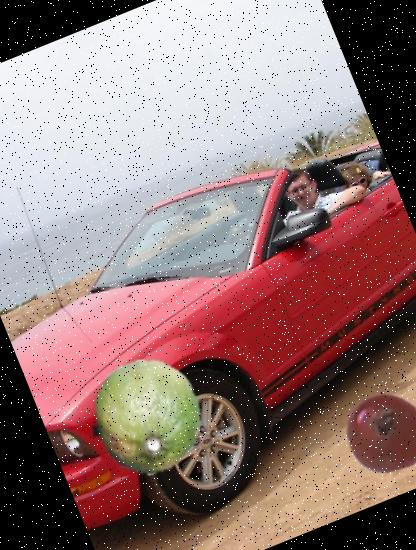Limes: (70, 341, 222, 493)
Redcurrant: (333, 381, 416, 486)
